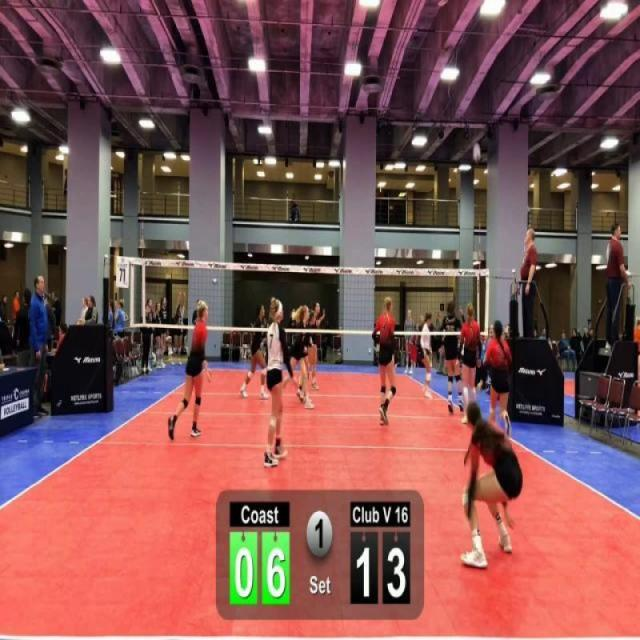volleyball: (471, 140, 483, 165)
